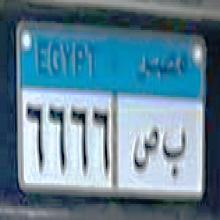6: (92, 105, 113, 174), (48, 104, 66, 172), (27, 103, 44, 169), (71, 110, 88, 169)
baa: (162, 123, 190, 176)
saad: (132, 123, 160, 172)
